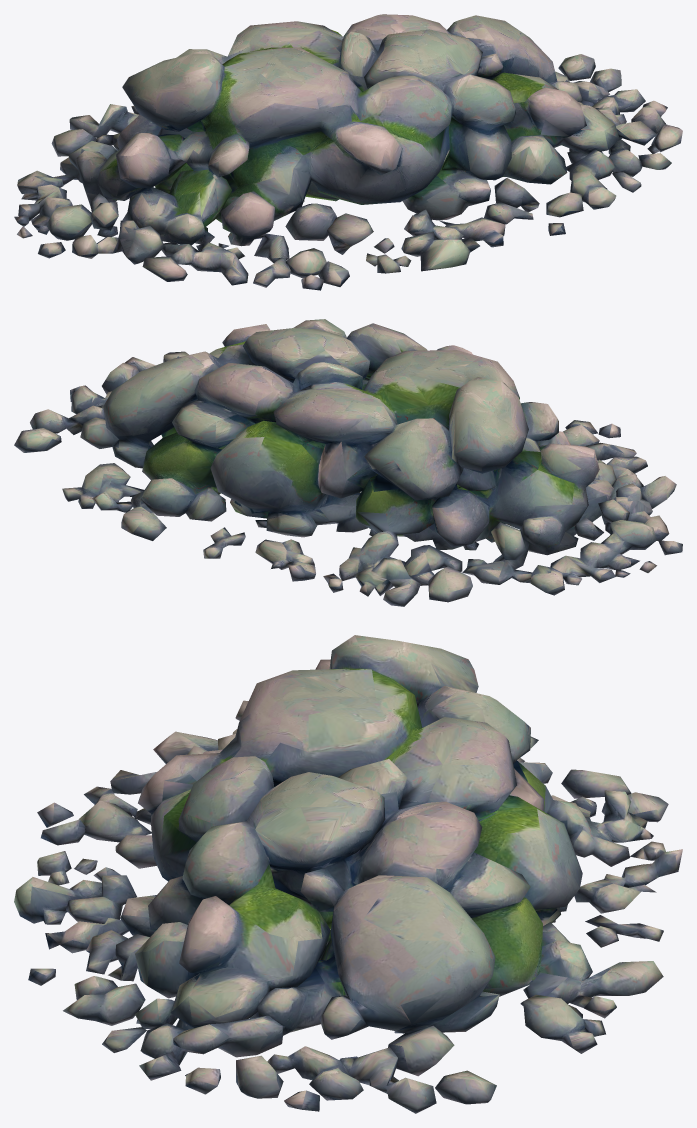
File: bank.glb
The picture shows the model from 3 angles, top to bottom: view 1: azimuth 30°, elevation 25°; view 2: azimuth 150°, elevation 25°; view 3: azimuth 270°, elevation 25°; orthographic projection. The views are drawn at different scales.
Parts seen in each view (by area): view 1: BANK; view 2: BANK; view 3: BANK.
Boxes of the visible parts, x1,y1,x2,y2 form: BANK: (14, 14, 682, 290); BANK: (14, 319, 682, 606); BANK: (14, 635, 682, 1113).
Bounding box in the file's own units: 2.6 × 0.5828 × 1.8.
1 material, 1 textured.
